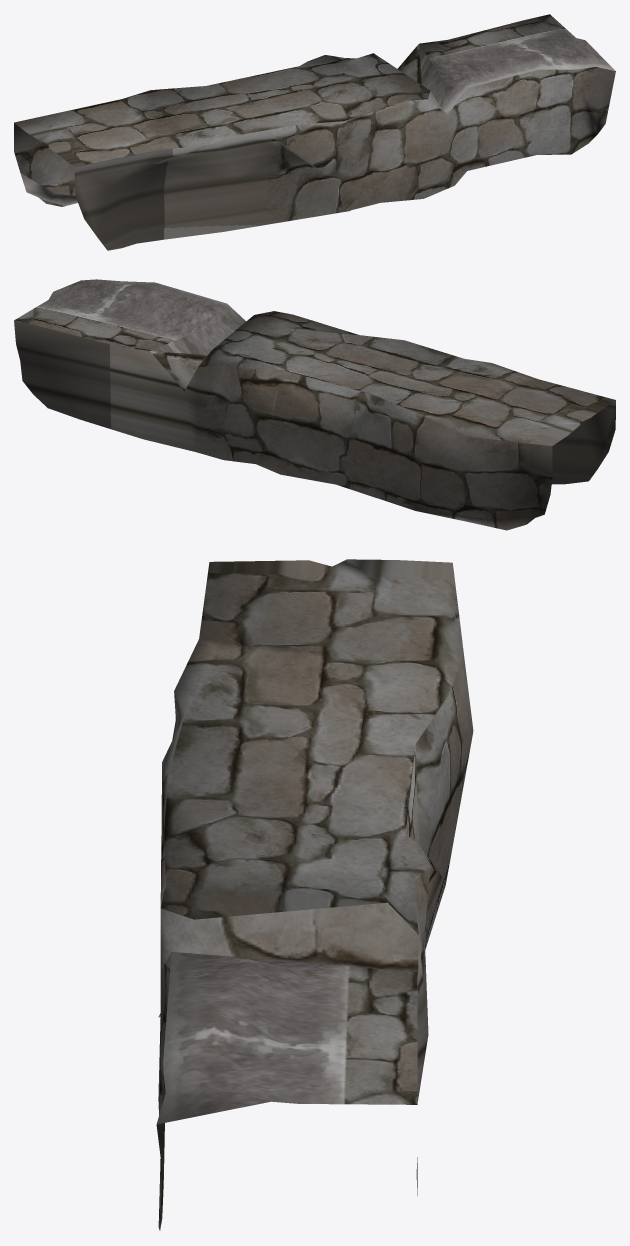
The model's file is stonebrick_low.fbx.
The picture shows the model from 3 angles, top to bottom: view 1: azimuth 30°, elevation 25°; view 2: azimuth 150°, elevation 25°; view 3: azimuth 270°, elevation 25°; orthographic projection. The views are drawn at different scales.
Parts seen in each view (by area): view 1: Mold_FLoor.014; view 2: Mold_FLoor.014; view 3: Mold_FLoor.014.
Part boxes in pixels (bbox=[...]): Mold_FLoor.014: bbox=[14, 14, 615, 250]; Mold_FLoor.014: bbox=[14, 279, 615, 530]; Mold_FLoor.014: bbox=[156, 559, 473, 1230].
Bounding box in the file's own units: 644 × 123 × 167.
